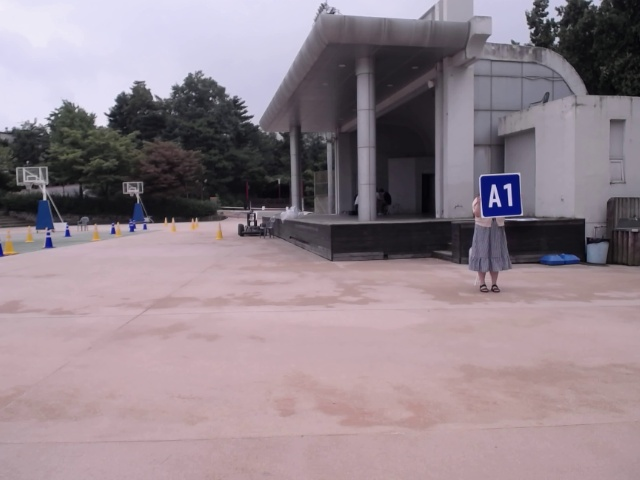delivery_a1: (480, 174, 523, 217)
